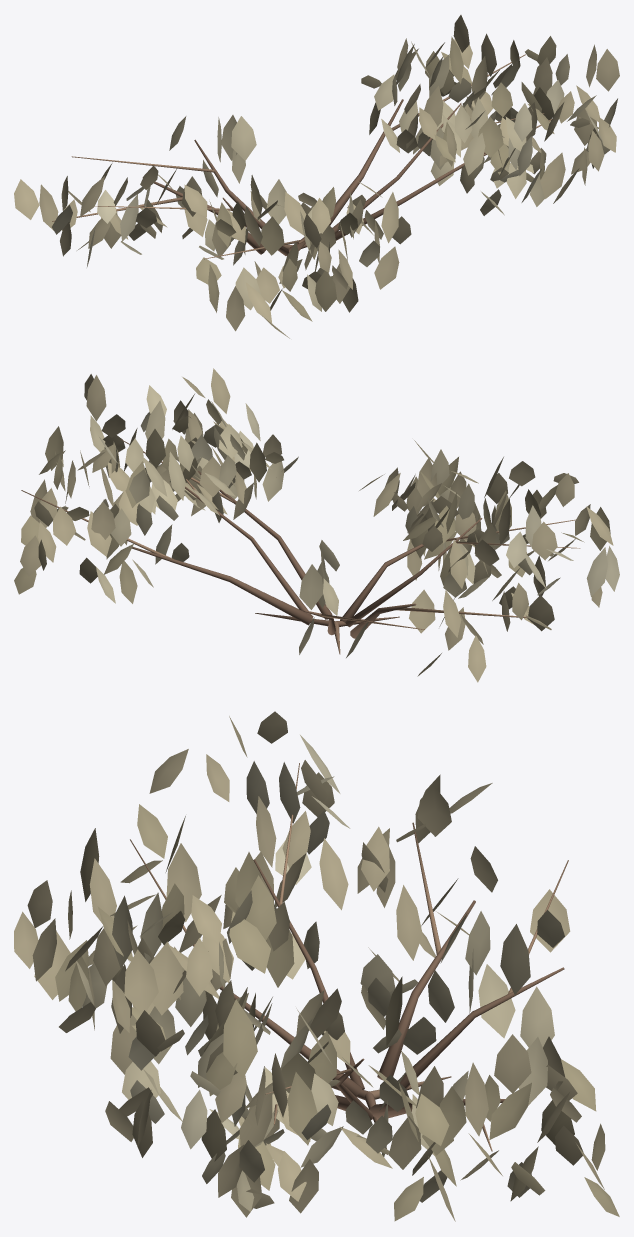
The model's file is bush_3d_04_golden_beige.glb.
3 views of the same model, one above another, from view 1: azimuth 30°, elevation 25°; view 2: azimuth 150°, elevation 25°; view 3: azimuth 270°, elevation 25° (orthographic). The views are drawn at different scales.
Visible parts, largest first — view 1: bush_3d_04_golden_beige_foliage, bush_3d_04_golden_beige_wood; view 2: bush_3d_04_golden_beige_foliage, bush_3d_04_golden_beige_wood; view 3: bush_3d_04_golden_beige_foliage, bush_3d_04_golden_beige_wood.
Part boxes in pixels (bbox=[...]): bush_3d_04_golden_beige_foliage: bbox=[14, 15, 619, 338]; bush_3d_04_golden_beige_wood: bbox=[52, 54, 551, 259]; bush_3d_04_golden_beige_foliage: bbox=[14, 368, 619, 682]; bush_3d_04_golden_beige_wood: bbox=[21, 439, 580, 654]; bush_3d_04_golden_beige_foliage: bbox=[14, 711, 619, 1221]; bush_3d_04_golden_beige_wood: bbox=[130, 763, 568, 1154].
Bounding box in the file's own units: 2.72 × 0.7998 × 1.74.
